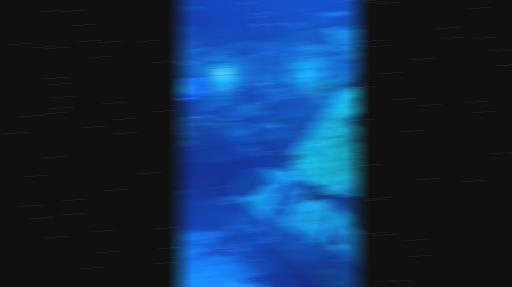Fish: (303, 9, 352, 26), (316, 268, 347, 286), (304, 183, 330, 202), (346, 197, 359, 231), (338, 72, 359, 93), (177, 84, 206, 97), (177, 115, 212, 125), (307, 81, 332, 94), (283, 153, 300, 164), (219, 195, 238, 204), (348, 113, 359, 127), (274, 116, 289, 125), (285, 22, 304, 29), (177, 133, 196, 140), (333, 233, 344, 245), (286, 242, 297, 253), (204, 122, 221, 128), (260, 101, 271, 109), (185, 6, 198, 11), (256, 136, 267, 141), (350, 136, 359, 142), (179, 120, 185, 129), (178, 190, 189, 194), (253, 22, 261, 27), (275, 78, 283, 83), (256, 152, 265, 156), (256, 28, 265, 32), (261, 12, 270, 16), (272, 22, 280, 26), (262, 119, 269, 121), (202, 42, 205, 45)
